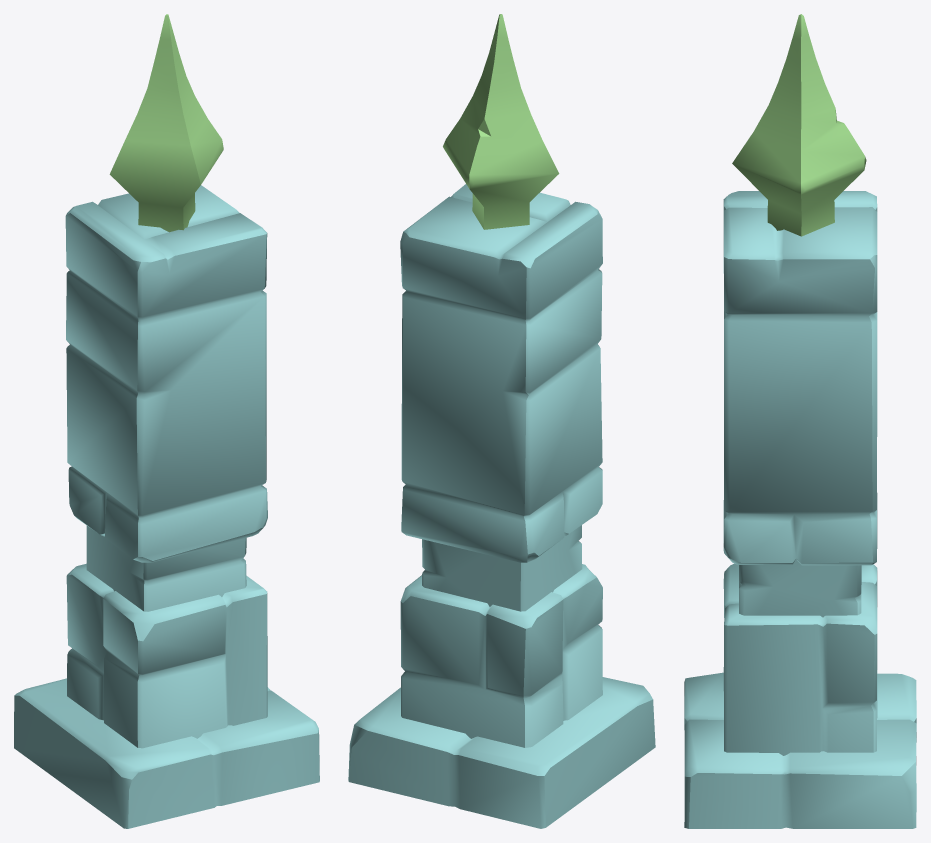
File: SM_Fence_9.fbx
The picture shows the model from 3 angles, left to right: view 1: azimuth 30°, elevation 25°; view 2: azimuth 150°, elevation 25°; view 3: azimuth 270°, elevation 25°; orthographic projection. The views are drawn at different scales.
Parts seen in each view (by area): view 1: SM_Fence_9; view 2: SM_Fence_9; view 3: SM_Fence_9.
Boxes of the visible parts, x1,y1,x2,y2 form: SM_Fence_9: (14,14,319,828); SM_Fence_9: (348,14,655,828); SM_Fence_9: (684,14,916,828).
Size of the model in its own units: 41.19 by 150 by 41.17.
